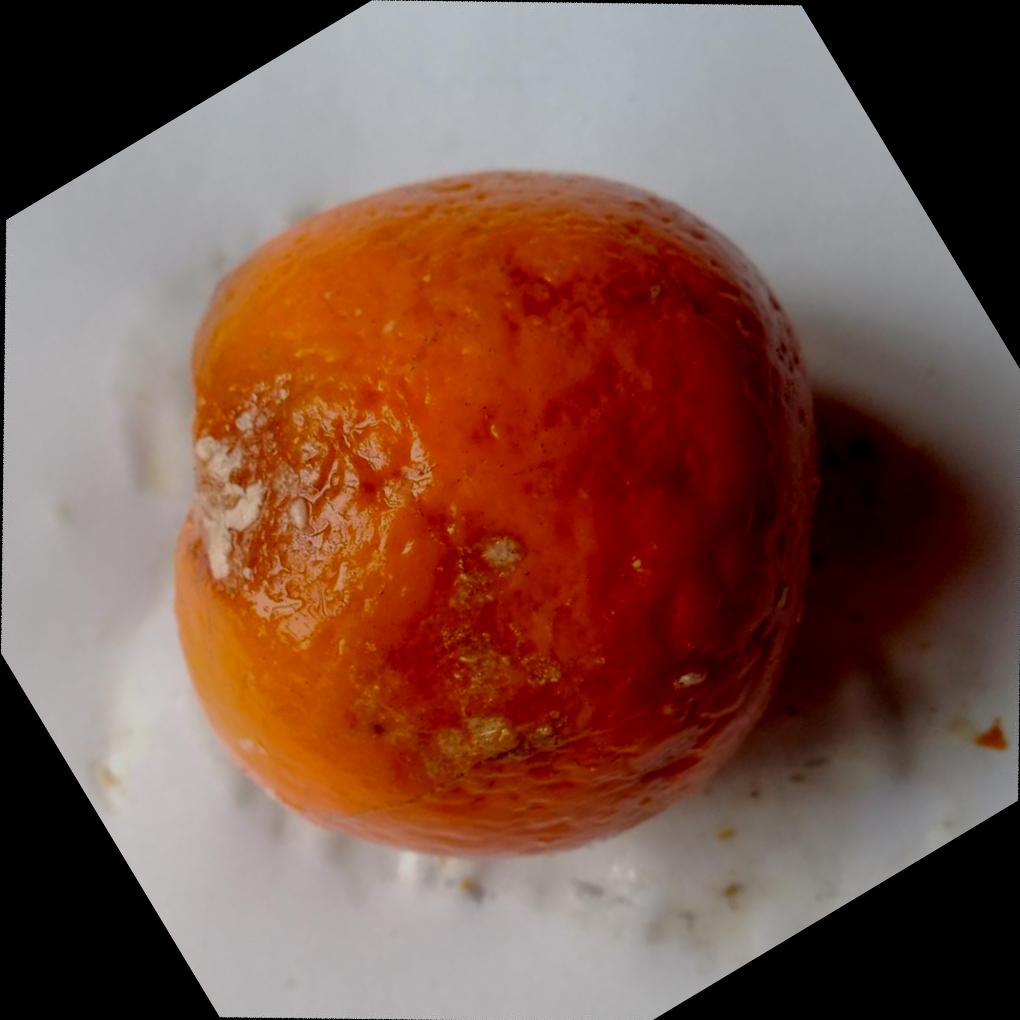FreshOrange: (171, 165, 827, 857)
